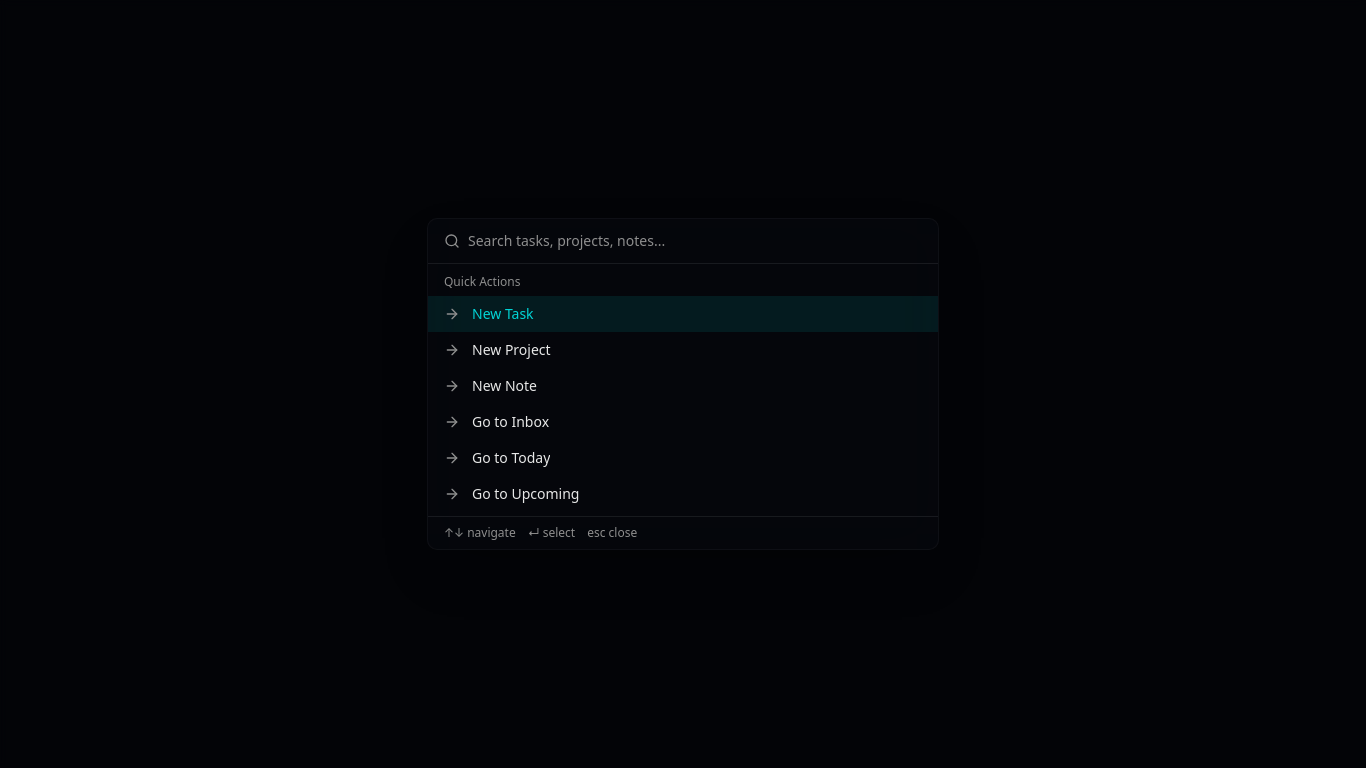
Test: CommandPalette › typing in search filters projects by title
This screenshot has width=1366, height=768.
Type "Website" into the field with placeholder "Search tasks, projects, notes..." at point(695, 241), box x1=468 y1=231 x2=922 y2=251
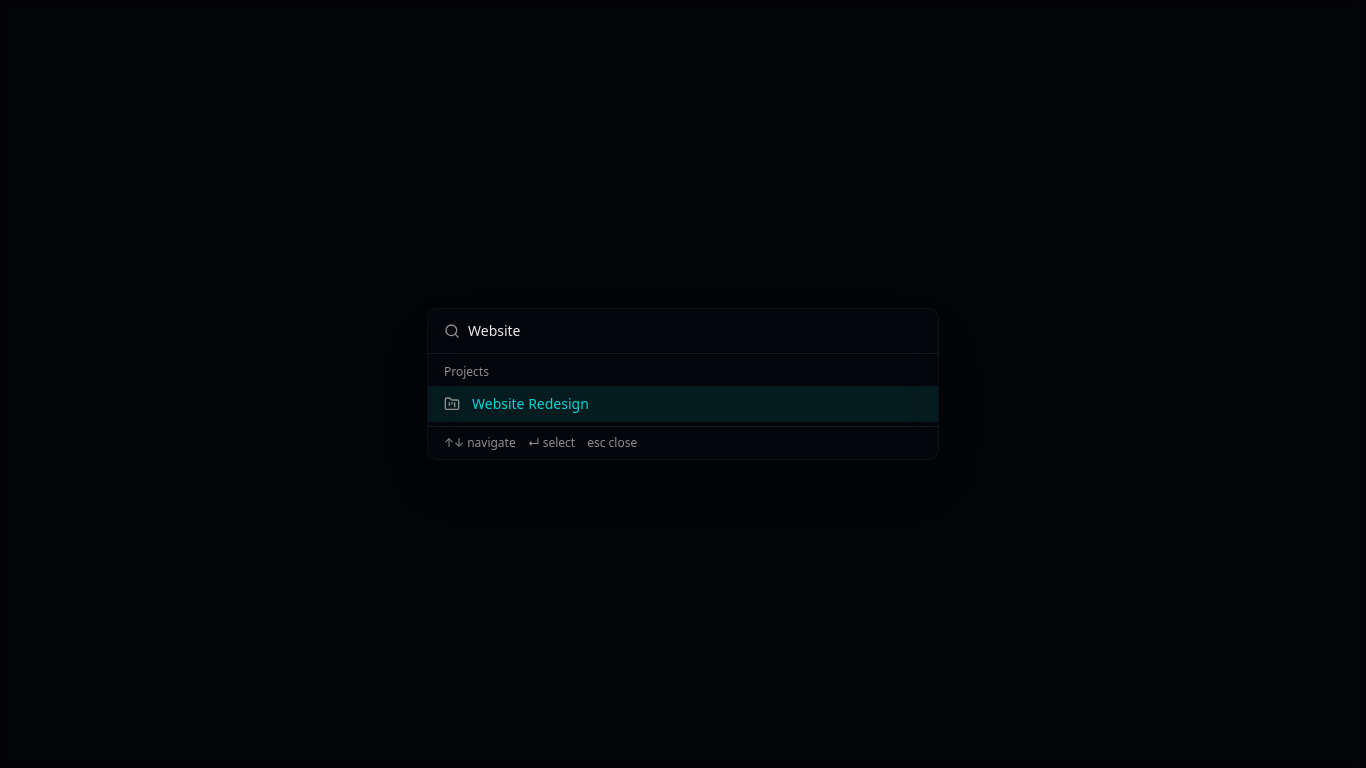
Now the text "Website Redesign" is shown, box x1=472 y1=394 x2=589 y2=414
